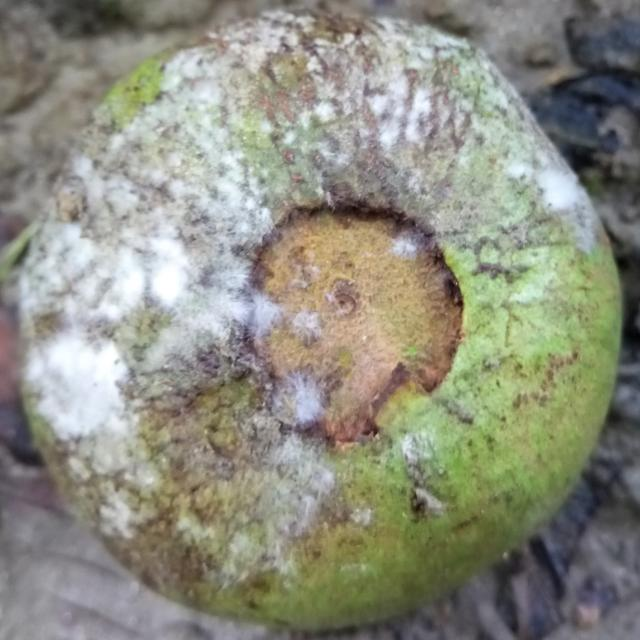Phytopthora: (21, 12, 620, 627)
